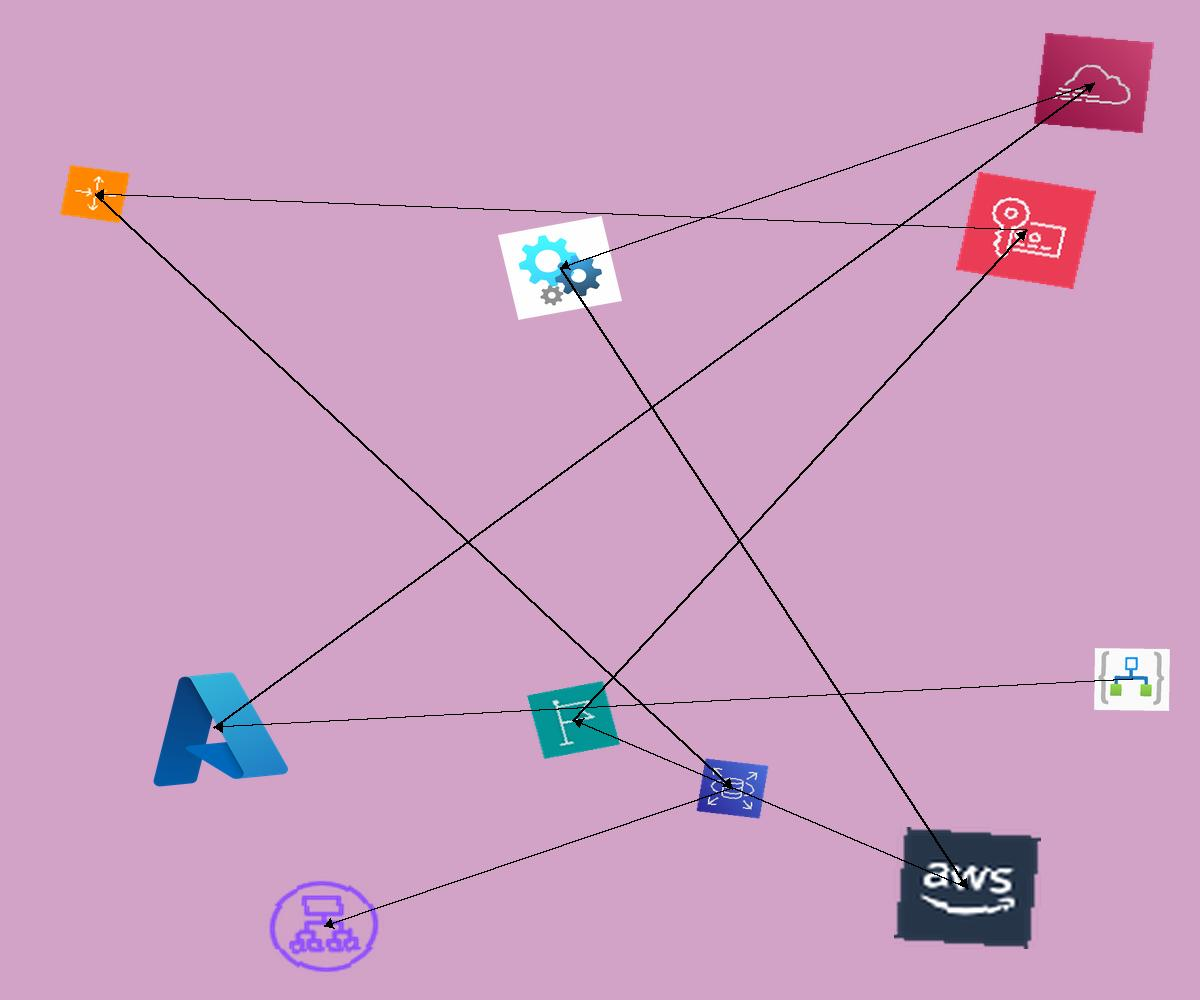AWS-Cloud-logo: (894, 827, 1041, 949)
AWS-CloudTrail: (1033, 32, 1155, 134)
AWS-Key-Management-Service: (956, 172, 1096, 289)
AWS-RDS: (696, 758, 769, 819)
AWS-Region: (527, 681, 620, 759)
AWS-Res_Elastic-Load-Balancing_Application-Load-Balancer: (260, 873, 388, 980)
AWS-Scaling-group: (59, 164, 131, 224)
Azure_api: (498, 216, 622, 320)
Azure_integration-204-Logic-Apps: (1094, 648, 1170, 711)
Azure_services: (132, 659, 296, 796)
